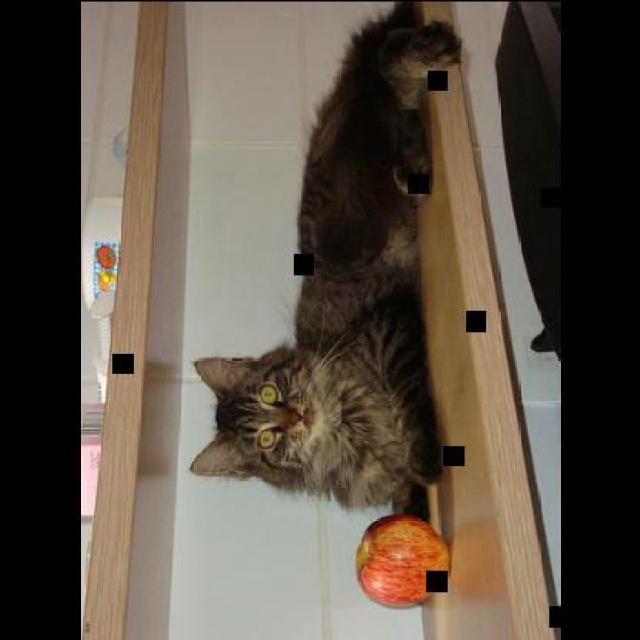unauthorized: (188, 0, 462, 514)
